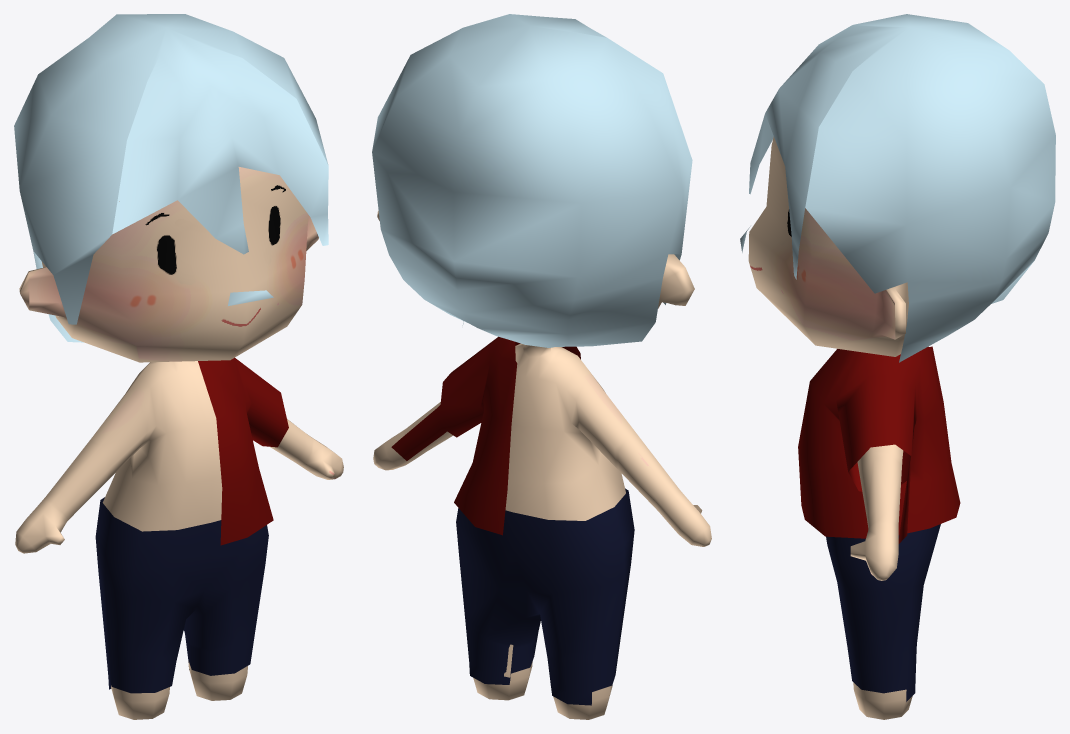
Rendered from tok.glb.
3 views of the same model, side by side, from view 1: azimuth 30°, elevation 25°; view 2: azimuth 150°, elevation 25°; view 3: azimuth 270°, elevation 25° (orthographic). The views are drawn at different scales.
Visible parts, largest first — view 1: Chibi_base.011, Chibi_base.012, Chibi_base.001, Chibi_base.010; view 2: Chibi_base.012, Chibi_base.001, Chibi_base.011, Chibi_base.010; view 3: Chibi_base.012, Chibi_base.010, Chibi_base.011, Chibi_base.001.
Part boxes in pixels (bbox=[...]): Chibi_base.011: bbox=[15, 167, 343, 719]; Chibi_base.012: bbox=[14, 14, 328, 342]; Chibi_base.001: bbox=[95, 497, 268, 693]; Chibi_base.010: bbox=[198, 357, 288, 545]; Chibi_base.012: bbox=[372, 14, 692, 347]; Chibi_base.001: bbox=[456, 488, 634, 705]; Chibi_base.011: bbox=[373, 210, 711, 719]; Chibi_base.010: bbox=[391, 336, 580, 535]; Chibi_base.012: bbox=[740, 14, 1055, 362]; Chibi_base.010: bbox=[798, 346, 960, 543]; Chibi_base.011: bbox=[748, 136, 912, 719]; Chibi_base.001: bbox=[826, 524, 940, 701].
Size of the model in its own units: 1.68 by 3.3 by 1.41.
Materials: 4 (1 with a texture image).
